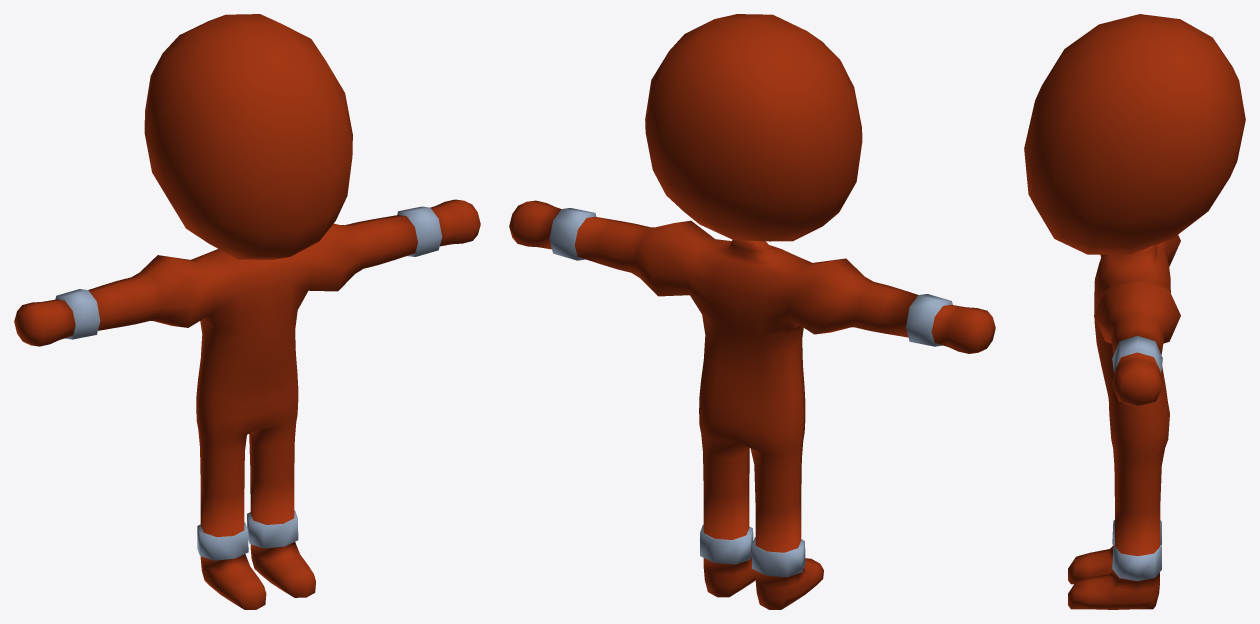
The model's file is Tribal 2.fbx.
The picture shows the model from 3 angles, left to right: view 1: azimuth 30°, elevation 25°; view 2: azimuth 150°, elevation 25°; view 3: azimuth 270°, elevation 25°; orthographic projection. The views are drawn at different scales.
Parts seen in each view (by area): view 1: Main Character.001; view 2: Main Character.001; view 3: Main Character.001.
Part boxes in pixels (box(x1,y1,x2,y2)): Main Character.001: box(14, 14, 480, 609); Main Character.001: box(509, 14, 995, 609); Main Character.001: box(1024, 14, 1245, 609).
Size of the model in its own units: 181 by 210 by 74.04.
